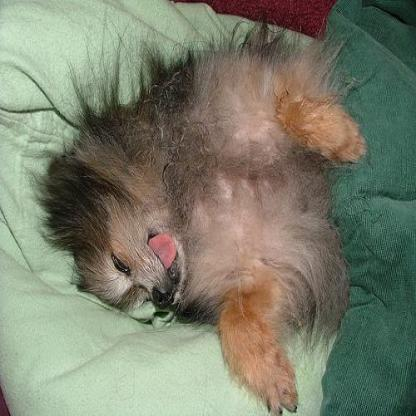Pomeranian: (31, 9, 367, 413)
